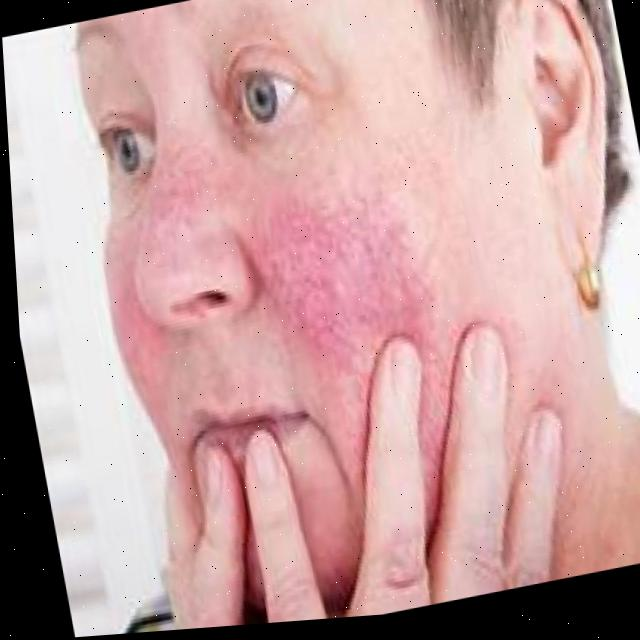Rosacea: (246, 163, 445, 401), (97, 229, 193, 421), (140, 147, 247, 223)
